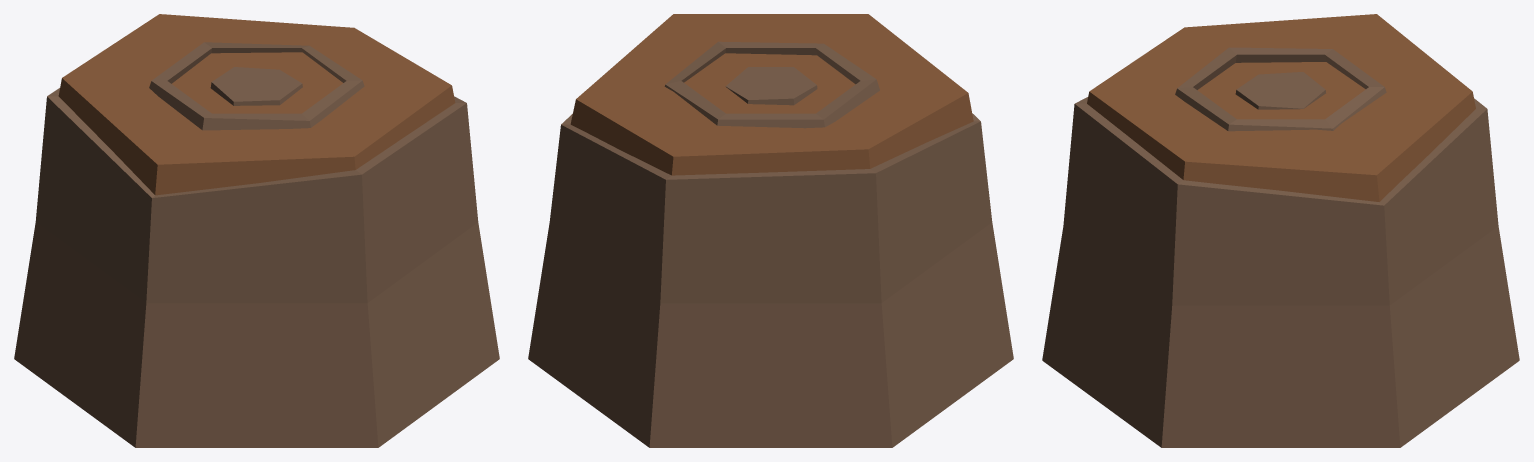
The model's file is Done_Wood_Trunk.glb.
3 views of the same model, side by side, from view 1: azimuth 30°, elevation 25°; view 2: azimuth 150°, elevation 25°; view 3: azimuth 270°, elevation 25° (orthographic).
Visible parts, largest first — view 1: Wood Trunk; view 2: Wood Trunk; view 3: Wood Trunk.
Part boxes in pixels (x1,y1,x2,y2): Wood Trunk: [14, 14, 499, 447]; Wood Trunk: [528, 14, 1013, 447]; Wood Trunk: [1042, 14, 1519, 447].
Size of the model in its own units: 1.57 by 1.16 by 1.81.
